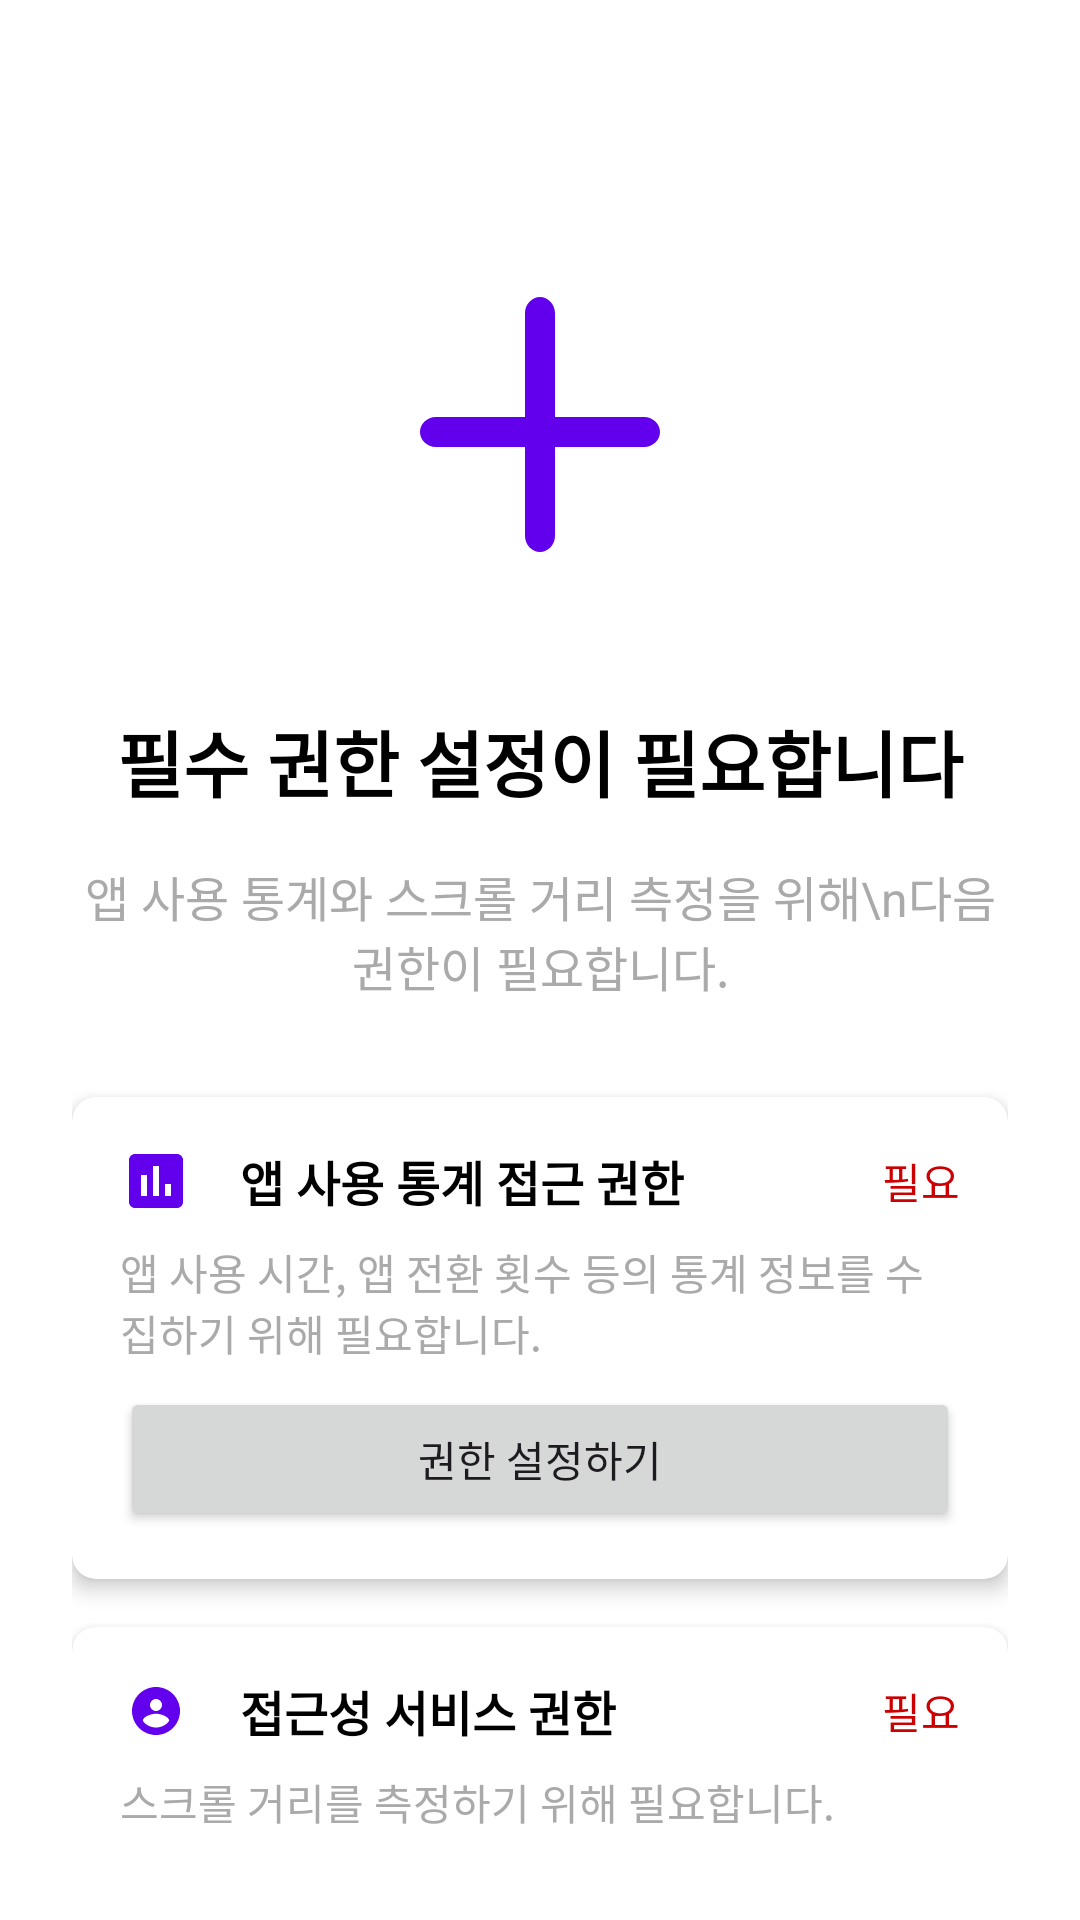

Icons on this 1080*1920 Android screen, each with the point to tap as (x,y):
stats: (156,1181)
